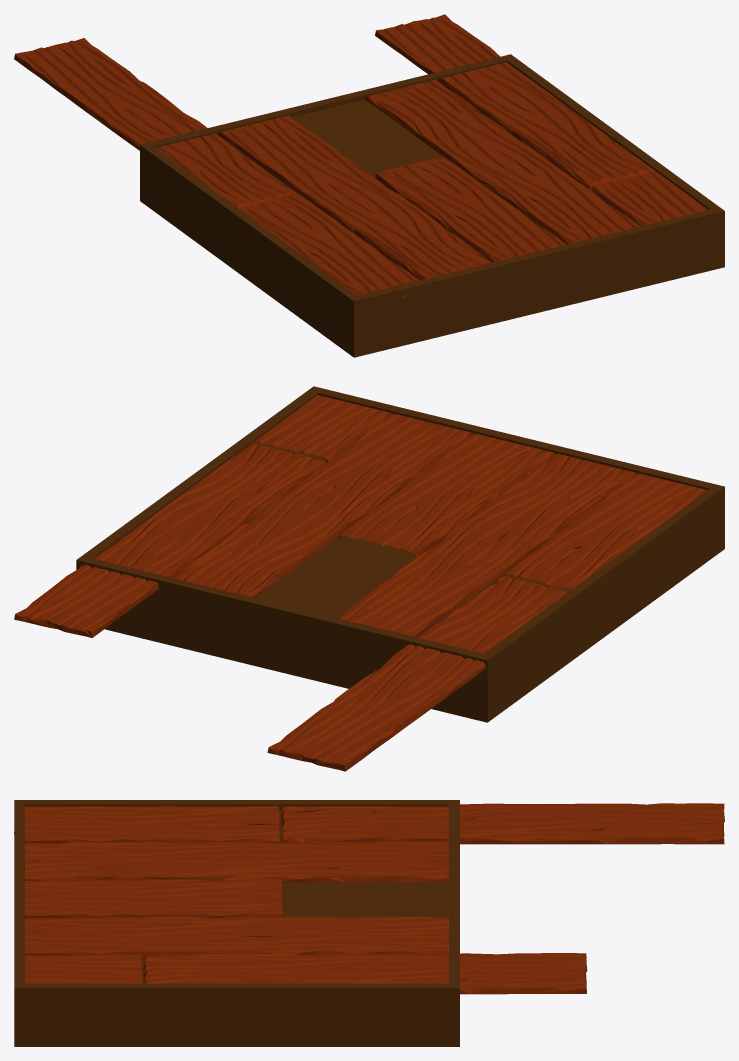
File: FloorEndL.glb
3 renders of one model, top to bottom at view 1: azimuth 30°, elevation 25°; view 2: azimuth 150°, elevation 25°; view 3: azimuth 270°, elevation 25°, orthographic. The views are drawn at different scales.
Parts seen in each view (by area): view 1: Cube.001, Plane.003, Plane.004, Plane.002, Plane.005, Plane.009, Plane.001, Plane.006; view 2: Cube.001, Plane.002, Plane.003, Plane.004, Plane.005, Plane.009, Plane.001, Plane.006; view 3: Cube.001, Plane.005, Plane.004, Plane.003, Plane.002, Plane.009, Plane.001, Plane.006.
Part boxes in pixels (bbox=[...]): Cube.001: bbox=[140, 54, 724, 357]; Plane.003: bbox=[364, 79, 639, 244]; Plane.004: bbox=[218, 115, 491, 280]; Plane.002: bbox=[375, 14, 654, 189]; Plane.005: bbox=[14, 38, 296, 207]; Plane.009: bbox=[375, 157, 565, 262]; Plane.001: bbox=[238, 194, 418, 297]; Plane.006: bbox=[590, 170, 708, 226]; Cube.001: bbox=[76, 386, 724, 722]; Plane.002: bbox=[14, 442, 325, 637]; Plane.003: bbox=[174, 413, 473, 597]; Plane.004: bbox=[338, 453, 636, 637]; Plane.005: bbox=[267, 576, 568, 771]; Plane.009: bbox=[338, 433, 555, 557]; Plane.001: bbox=[503, 473, 707, 589]; Plane.006: bbox=[253, 395, 392, 462]; Cube.001: bbox=[14, 800, 459, 1046]; Plane.005: bbox=[281, 803, 724, 844]; Plane.004: bbox=[25, 841, 448, 882]; Plane.003: bbox=[25, 916, 448, 957]; Plane.002: bbox=[143, 953, 587, 994]; Plane.009: bbox=[25, 878, 282, 918]; Plane.001: bbox=[14, 806, 279, 843]; Plane.006: bbox=[25, 954, 141, 983].
Bounding box in the file's own units: 2 × 0.2899 × 3.19.
